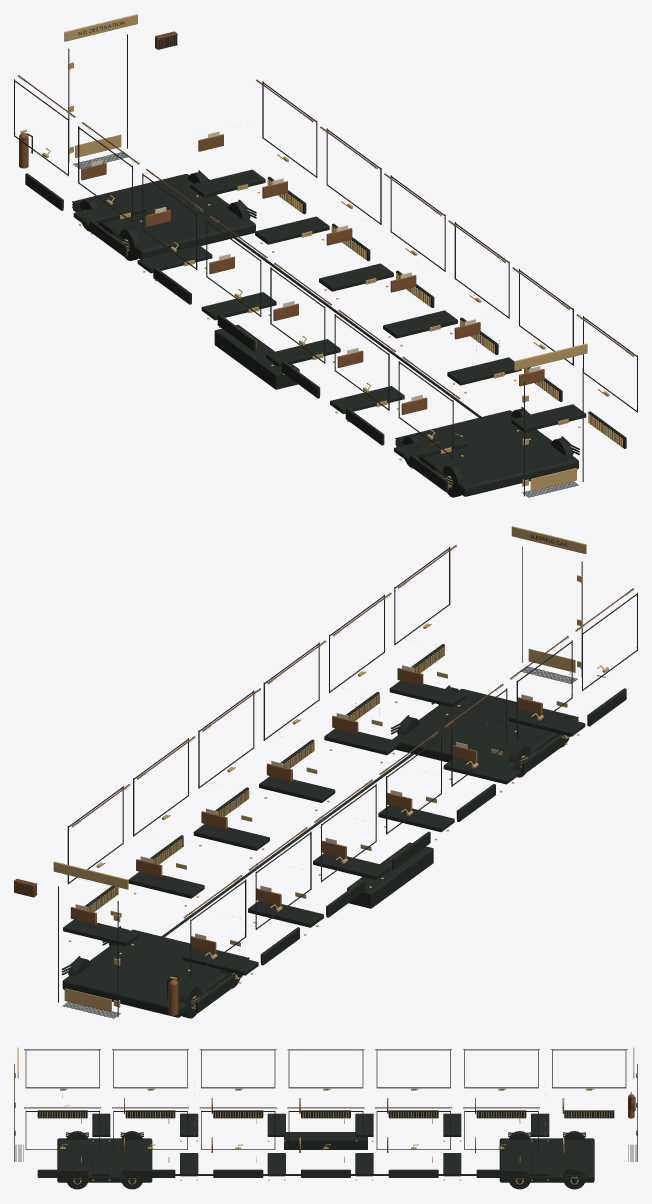
Rendered from CarriageCraft.fbx.
The picture shows the model from 3 angles, top to bottom: view 1: azimuth 30°, elevation 25°; view 2: azimuth 150°, elevation 25°; view 3: azimuth 270°, elevation 25°; orthographic projection. The views are drawn at different scales.
Parts seen in each view (by area): view 1: Bogie / cast suspension, Bogie / cast suspension.001, Underframe / battery box, Seat / bolted base frame.008, Seat / bolted base frame.011, Seat / bolted base frame.009, Seat / bolted base frame.010, Seat / bolted base frame.006, Seat / bolted base frame.003, Seat / bolted base frame, Seat / bolted base frame.001, Seat / bolted base frame.002 (+5 smaller); view 2: Bogie / cast suspension.001, Bogie / cast suspension, Underframe / battery box, Seat / bolted base frame.011, Seat / bolted base frame.006, Seat / bolted base frame.007, Seat / bolted base frame.009, Seat / bolted base frame.010, Seat / bolted base frame.008, Seat / bolted base frame.004, Seat / bolted base frame.001, Seat / bolted base frame.005 (+5 smaller); view 3: Bogie / cast suspension.001, Bogie / cast suspension, Underframe / battery box, Heater / recessed dark housing.008, Heater / recessed dark housing.012, Heater / recessed dark housing.007, Heater / recessed dark housing.009, Heater / recessed dark housing.011, Seat / bolted base frame.001, Seat / bolted base frame.002, Seat / bolted base frame.003, Seat / bolted base frame.005 (+17 smaller).
Part boxes in pixels (x1=…): Bogie / cast suspension: x1=396, y1=410, x2=578, y2=496; Bogie / cast suspension.001: x1=73, y1=174, x2=255, y2=259; Underframe / battery box: x1=214, y1=324, x2=299, y2=389; Seat / bolted base frame.008: x1=383, y1=310, x2=457, y2=338; Seat / bolted base frame.011: x1=190, y1=169, x2=265, y2=197; Seat / bolted base frame.009: x1=319, y1=263, x2=393, y2=291; Seat / bolted base frame.010: x1=255, y1=216, x2=329, y2=244; Seat / bolted base frame.006: x1=511, y1=404, x2=586, y2=432; Seat / bolted base frame.003: x1=201, y1=292, x2=276, y2=320; Seat / bolted base frame: x1=394, y1=433, x2=468, y2=460; Seat / bolted base frame.001: x1=330, y1=386, x2=404, y2=413; Seat / bolted base frame.002: x1=266, y1=339, x2=340, y2=367; Bogie / cast suspension.001: x1=62, y1=929, x2=247, y2=1017; Bogie / cast suspension: x1=392, y1=689, x2=576, y2=769; Underframe / battery box: x1=347, y1=842, x2=433, y2=908; Seat / bolted base frame.011: x1=63, y1=919, x2=139, y2=946; Seat / bolted base frame.006: x1=389, y1=680, x2=465, y2=707; Seat / bolted base frame.007: x1=324, y1=728, x2=400, y2=755; Seat / bolted base frame.009: x1=193, y1=824, x2=269, y2=850; Seat / bolted base frame.010: x1=128, y1=871, x2=204, y2=898; Seat / bolted base frame.008: x1=259, y1=776, x2=335, y2=802; Seat / bolted base frame.004: x1=248, y1=901, x2=323, y2=927; Seat / bolted base frame.001: x1=443, y1=757, x2=519, y2=784; Seat / bolted base frame.005: x1=182, y1=948, x2=258, y2=975; Bogie / cast suspension.001: x1=499, y1=1138, x2=594, y2=1182; Bogie / cast suspension: x1=57, y1=1138, x2=152, y2=1182; Underframe / battery box: x1=284, y1=1132, x2=367, y2=1149; Heater / recessed dark housing.008: x1=125, y1=1169, x2=175, y2=1177; Heater / recessed dark housing.012: x1=476, y1=1169, x2=526, y2=1177; Heater / recessed dark housing.007: x1=37, y1=1169, x2=87, y2=1177; Heater / recessed dark housing.009: x1=213, y1=1169, x2=263, y2=1177; Heater / recessed dark housing.011: x1=388, y1=1169, x2=438, y2=1177; Seat / bolted base frame.001: x1=180, y1=1113, x2=198, y2=1136; Seat / bolted base frame.002: x1=267, y1=1113, x2=285, y2=1136; Seat / bolted base frame.003: x1=355, y1=1113, x2=373, y2=1136; Seat / bolted base frame.005: x1=531, y1=1113, x2=549, y2=1136.
Bounding box in the file's own units: 417 × 348 × 1778.
